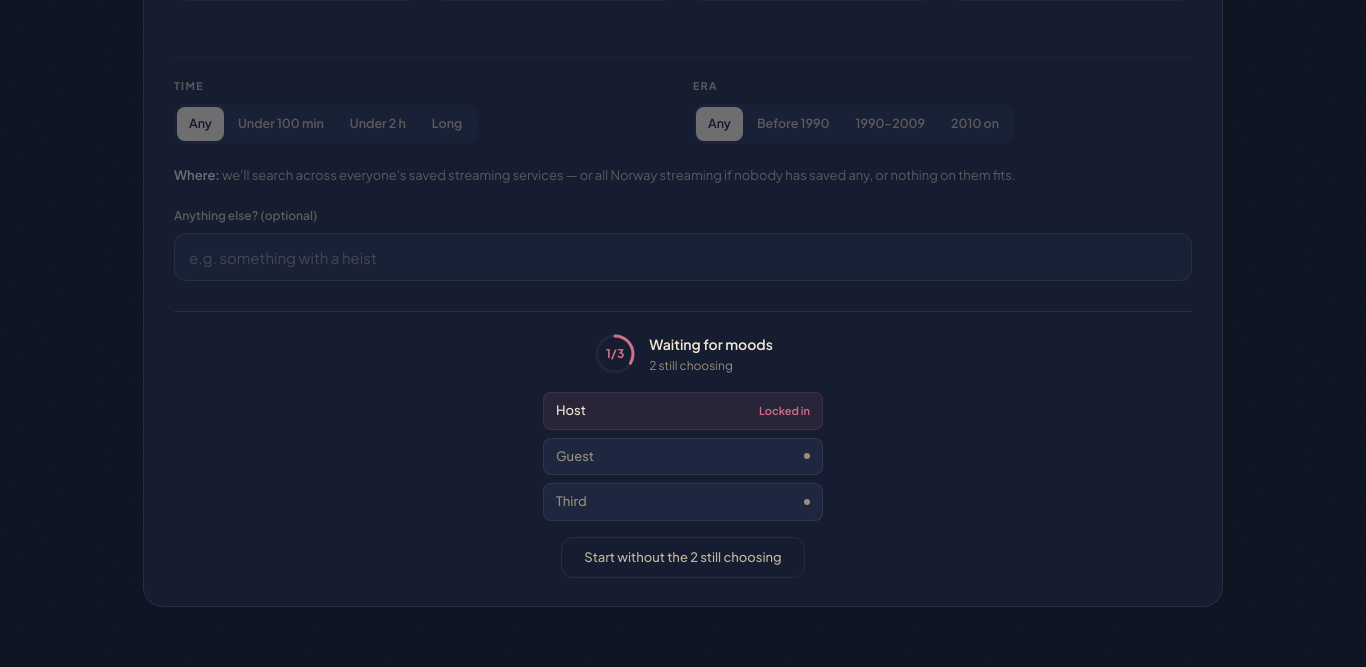
Group mood page › names how many are left out when it's more than one, and shows a refusal with the list back
(page scrolled)
Click the button "Start without the 2 still choosing" at (683, 557), box [561,536,805,578]
(page scrolled)
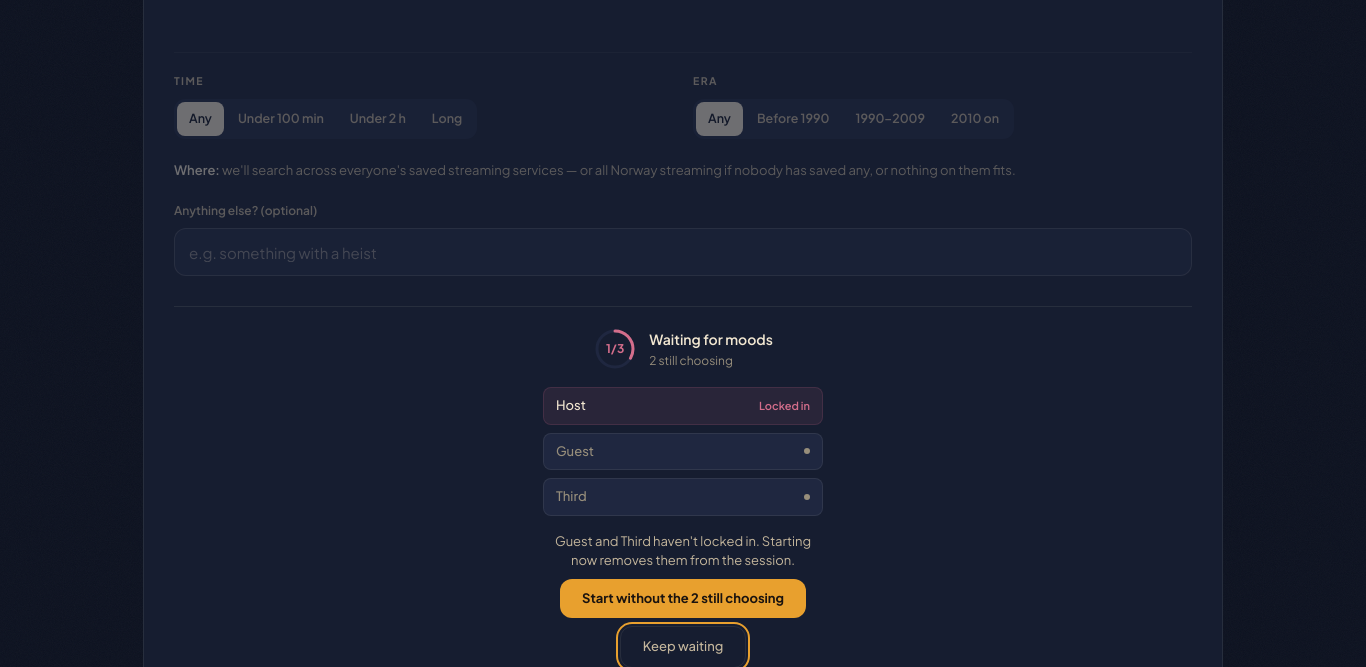
Click the button "Start without the 2 still choosing" at (683, 598), box [560,578,806,618]
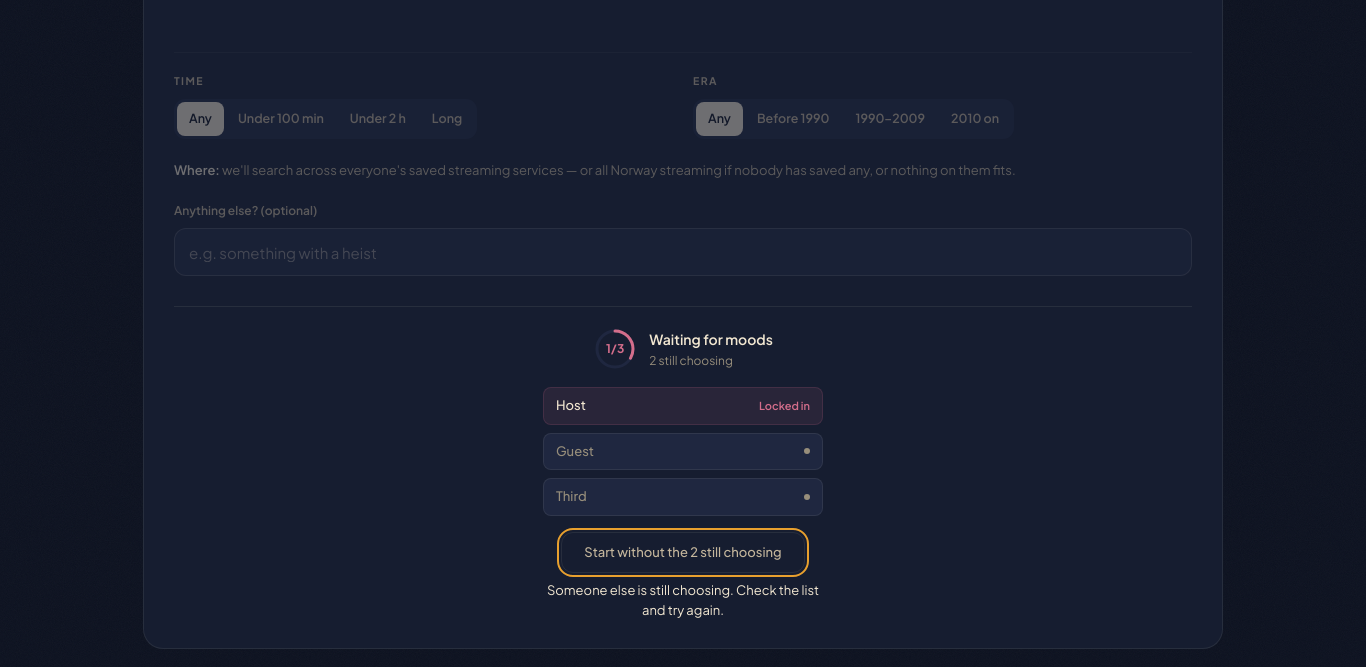
Now the message shows "Someone else is still choosing.", box [547,582,819,618]
Now the button "Keep waiting" is gone
